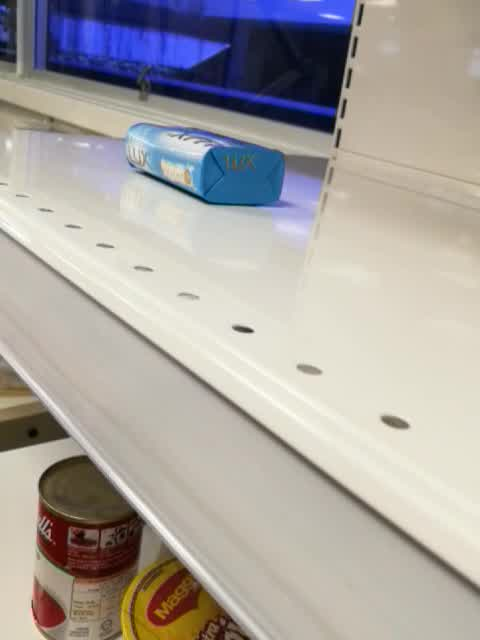soap: (123, 120, 286, 210)
